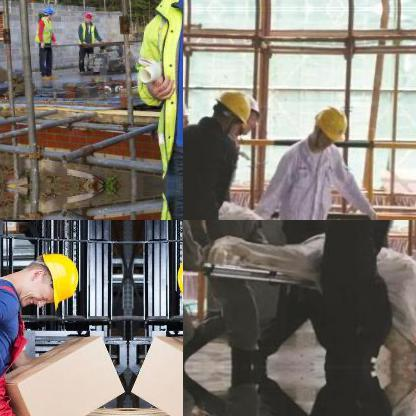Helmet: (12, 250, 78, 308), (306, 100, 348, 148), (210, 86, 248, 134), (245, 95, 259, 134), (174, 249, 182, 309), (80, 7, 94, 23), (41, 4, 55, 18)
